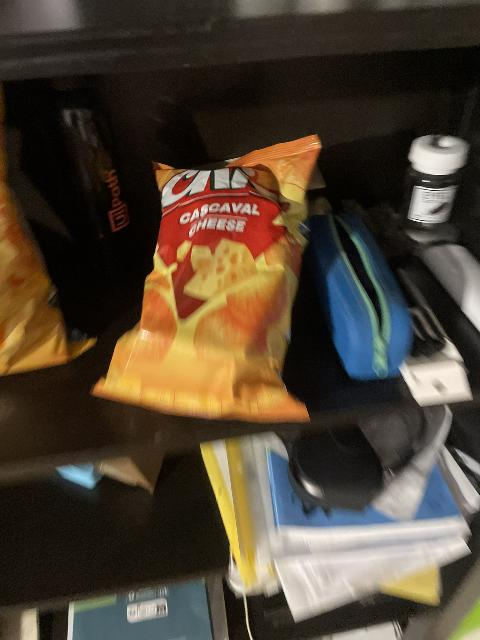Chio Cascaval 125g: (90, 142, 324, 422)
Chio Hula Hoops Cheese 70g: (2, 72, 99, 374)
